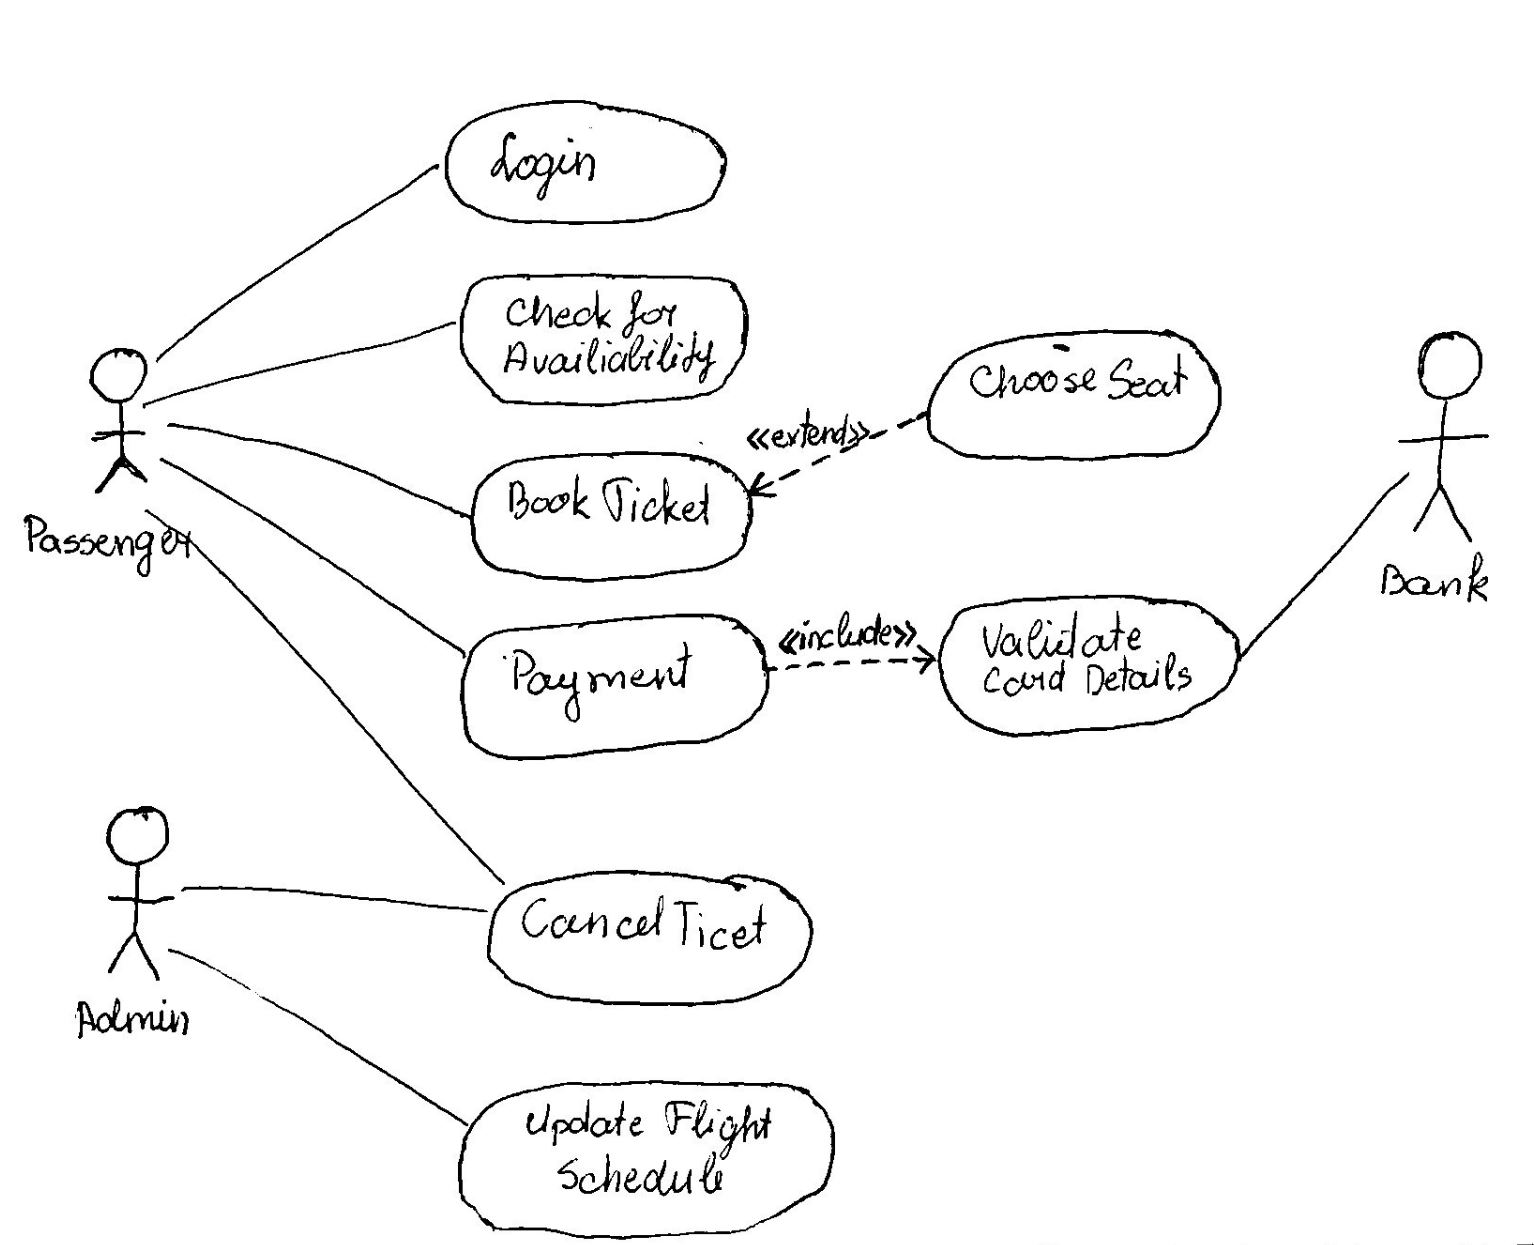actor: (1393, 325, 1493, 545), (76, 340, 157, 498), (102, 803, 169, 982)
association: (152, 502, 502, 887), (159, 457, 461, 661), (152, 155, 443, 365), (164, 940, 467, 1129), (1244, 466, 1418, 656), (165, 418, 467, 517), (143, 314, 457, 409), (177, 865, 488, 929), (749, 412, 927, 502), (775, 643, 935, 678)
text: (521, 1090, 778, 1204), (502, 286, 723, 389), (519, 892, 778, 966), (497, 640, 728, 723), (979, 617, 1194, 697), (497, 471, 712, 537), (968, 352, 1194, 410), (15, 511, 192, 581), (484, 119, 604, 199), (1377, 548, 1497, 615), (778, 607, 930, 656), (63, 993, 190, 1044), (742, 409, 875, 448)
use_case: (461, 1076, 834, 1242), (460, 611, 770, 762), (486, 866, 811, 1010), (933, 589, 1239, 739), (458, 268, 750, 408), (924, 329, 1222, 465), (472, 448, 756, 584), (442, 97, 729, 226)
